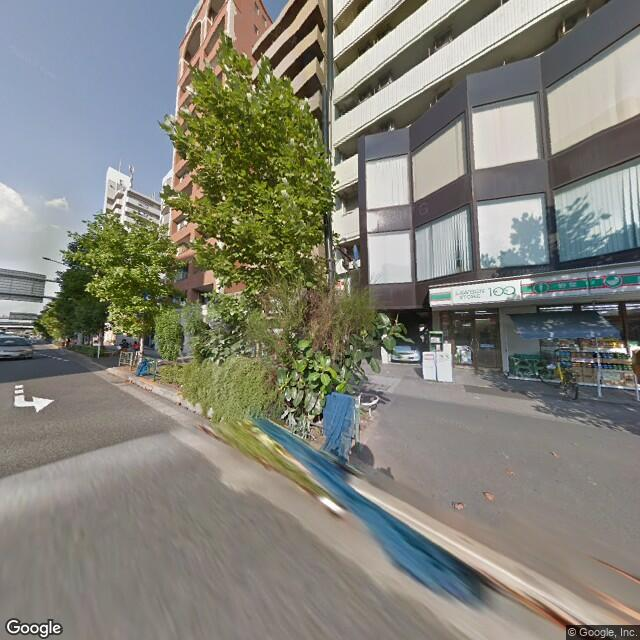lawson: (428, 261, 639, 314)
